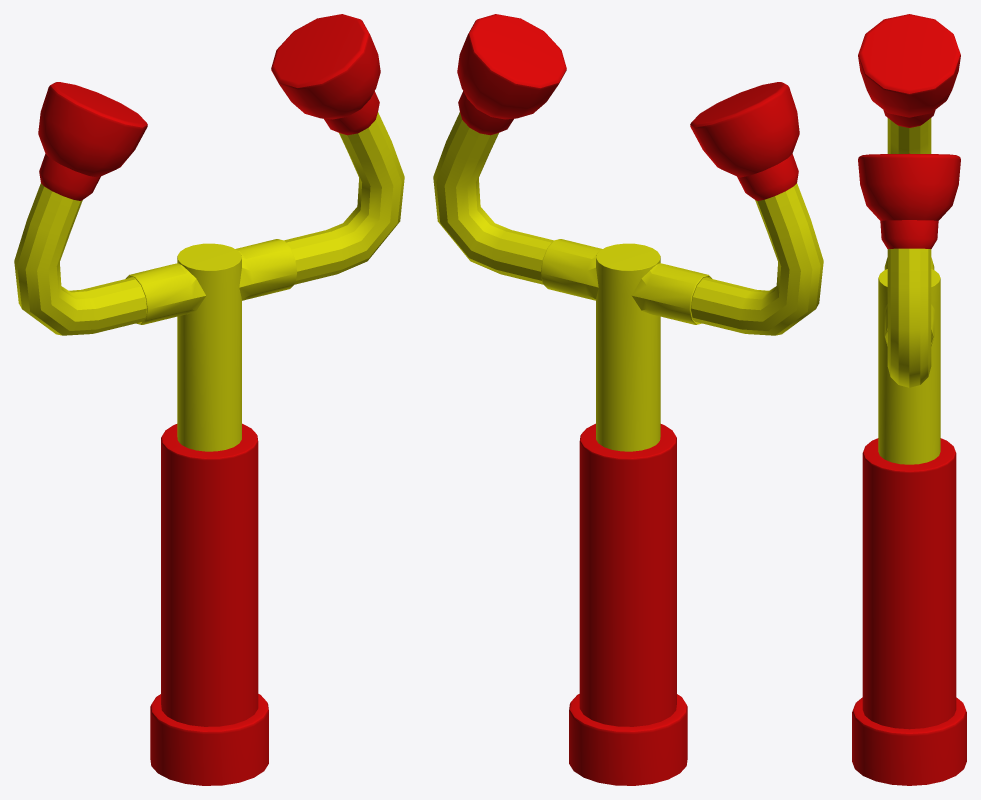
The model's file is EyewashVer2_Strong_Hannah.fbx.
The picture shows the model from 3 angles, left to right: view 1: azimuth 30°, elevation 25°; view 2: azimuth 150°, elevation 25°; view 3: azimuth 270°, elevation 25°; orthographic projection. The views are drawn at different scales.
Visible parts, largest first — view 1: eyeWash2; view 2: eyeWash2; view 3: eyeWash2.
Boxes of the visible parts, <box> form: eyeWash2: <box>14,14,404,785</box>; eyeWash2: <box>433,14,823,785</box>; eyeWash2: <box>852,14,966,785</box>.
Bounding box in the file's own units: 0.1657 × 0.2904 × 0.0446.
